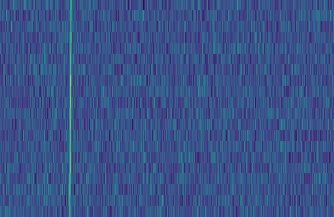signal: (63, 0, 73, 217)
